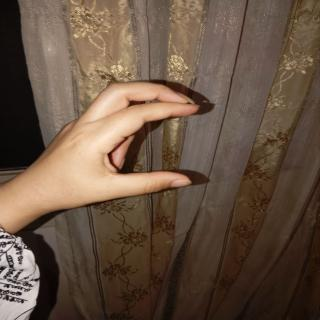DHELL: (9, 75, 218, 228)
